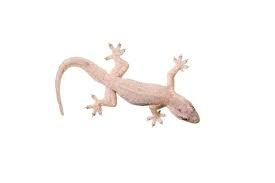lizard: (56, 40, 200, 131)
